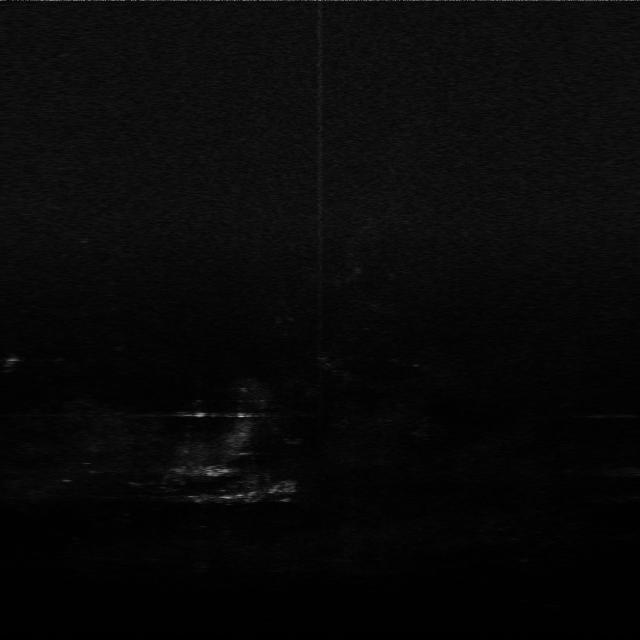rov: (192, 458, 232, 479)
